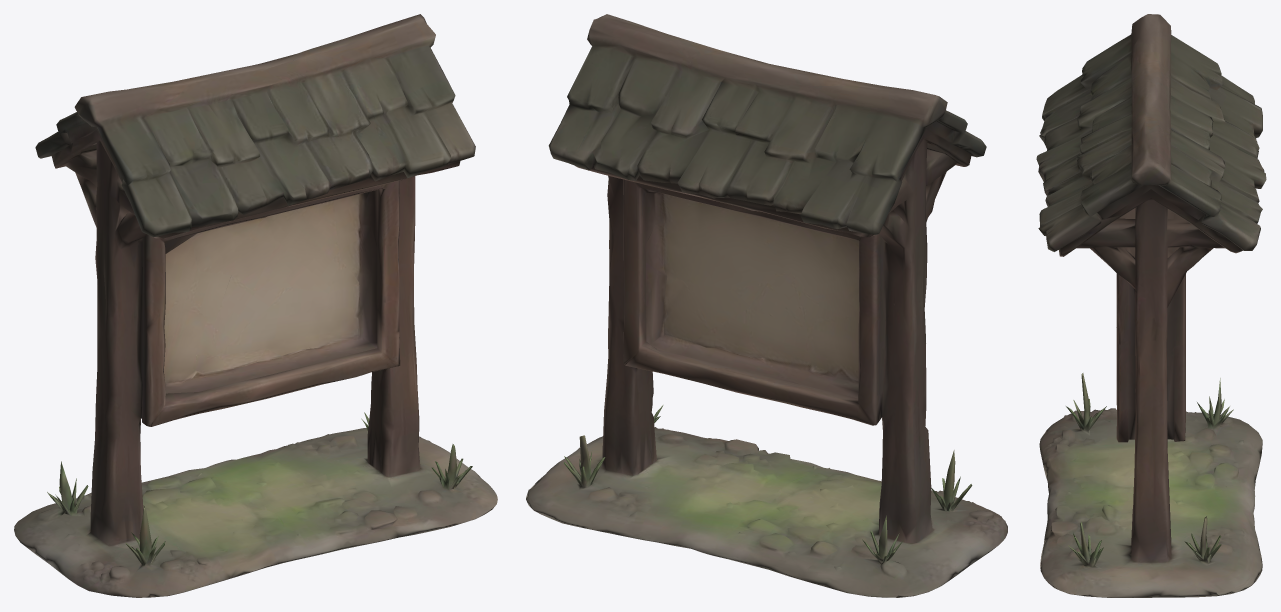
File: church_noticeboard.glb
3 renders of one model, left to right at view 1: azimuth 30°, elevation 25°; view 2: azimuth 150°, elevation 25°; view 3: azimuth 270°, elevation 25°, orthographic. The views are drawn at different scales.
Parts seen in each view (by area): view 1: tripo_node_b2e1fec0-5c84-4496-a97e-ca9ba05c0021; view 2: tripo_node_b2e1fec0-5c84-4496-a97e-ca9ba05c0021; view 3: tripo_node_b2e1fec0-5c84-4496-a97e-ca9ba05c0021.
Part boxes in pixels (bbox=[...]): tripo_node_b2e1fec0-5c84-4496-a97e-ca9ba05c0021: bbox=[14, 14, 497, 597]; tripo_node_b2e1fec0-5c84-4496-a97e-ca9ba05c0021: bbox=[526, 14, 1007, 597]; tripo_node_b2e1fec0-5c84-4496-a97e-ca9ba05c0021: bbox=[1036, 14, 1266, 597].
Size of the model in its own units: 0.9396 by 1 by 0.4982.
Materials: 1 (1 with a texture image).
